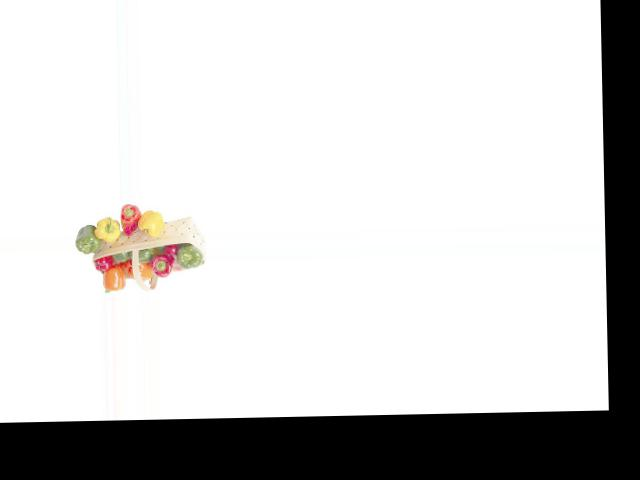bell_pepper: (173, 245, 202, 269)
